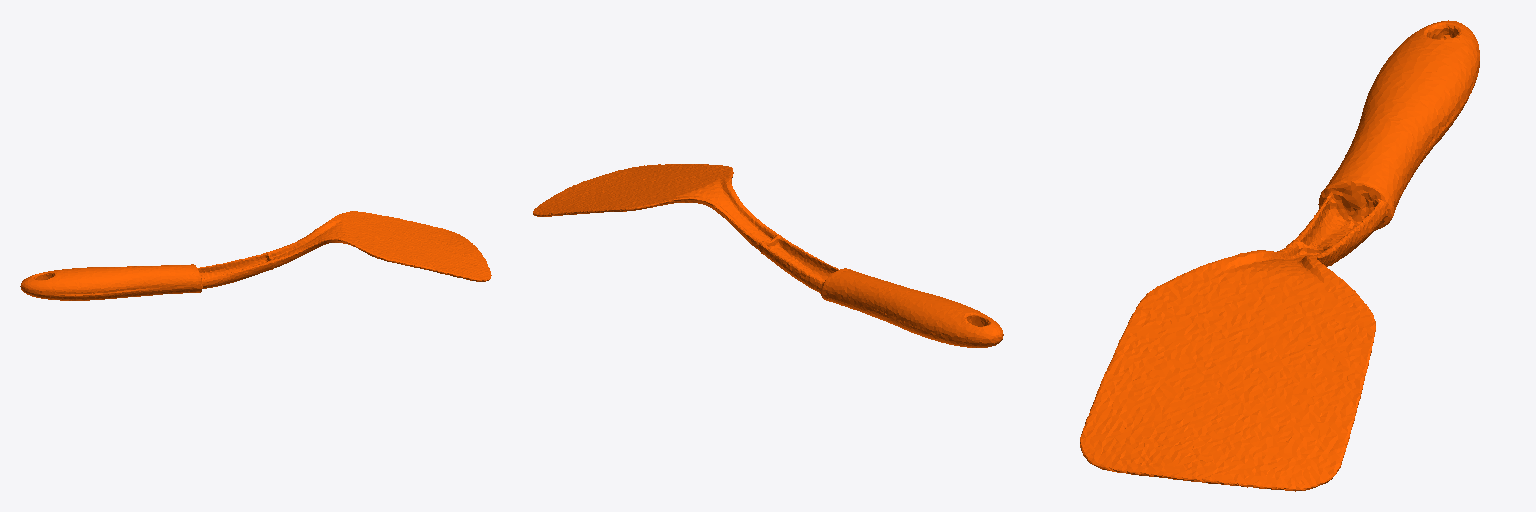
robot.urdf — 033_spatula:
<?xml version="1.0" ?>
<robot name="033_spatula">
   <material name="obj_color">
      <color rgba="1.0 0.423529411765 0.0392156862745 1.0"/>
   </material>
   <link name="top">
      <inertial>
         <origin rpy="2.947510938961554e-05 0.001252299729079396 0.001269981549790664" xyz="-0.04881688648234415 0.01293410916413939 -0.001170305584371498"/>
         <mass value="0.1315817925076289"/>
         <inertia ixx="0.0001134744378310445" ixy="0.0003092741246370287" ixz="-3.185908288878827e-06" iyy="0.001168309397530937" iyz="9.166399635441377e-07" izz="0.001269972552897694"/>
      </inertial>
      <visual>
         <origin rpy="0 0 0" xyz="0 0 0"/>
         <geometry>
            <mesh filename="top_watertight_tiny.stl" scale="1 1 1"/>
         </geometry>
         <material name="obj_color"/>
      </visual>
      <collision>
         <origin rpy="0 0 0" xyz="0 0 0"/>
         <geometry>
            <mesh filename="top_watertight_tiny.obj" scale="1 1 1"/>
         </geometry>
      </collision>
   </link>
   <link name="bottom">
      <inertial>
         <origin rpy="1.633333333199431e-08 1.633333333199431e-08 1.633333333362855e-08" xyz="0.3464080000000008 0.3464080000000008 0.3464080000000008"/>
         <mass value="0.0009800000000000017"/>
         <inertia ixx="1.633333333253906e-08" ixy="5.447480642029219e-19" ixz="5.447480642029219e-19" iyy="1.633333333253906e-08" iyz="5.447480642029219e-19" izz="1.633333333253906e-08"/>
      </inertial>
      <visual>
         <origin rpy="0 0 0" xyz="0 0 0"/>
         <geometry>
            <mesh filename="bottom_watertight_tiny.stl" scale="1 1 1"/>
         </geometry>
         <material name="obj_color"/>
      </visual>
   </link>
   <joint name="rotation" type="revolute">
      <origin xyz="0 0 0"/>
      <axis xyz="0 0 -1"/>
      <parent link="bottom"/>
      <child link="top"/>
      <dynamics damping="1.0" friction="1.0"/>
      <limit effort="0.1" velocity="0.1" lower="0" upper="0.001"/>
   </joint>
</robot>

--- Facts derived from the render (not from the file) ---
Views: 3 orthographic renders of the robot side by side, from view 1: azimuth 30°, elevation 25°; view 2: azimuth 150°, elevation 25°; view 3: azimuth 270°, elevation 25°.
Model 033_spatula with 2 links and 1 joints (1 revolute), rooted at bottom, posed every joint at zero.
Visible links, largest first — view 1: top; view 2: top; view 3: top.
Boxes of the visible links, left/top/right/bottom form: top: left=20, top=211, right=491, bottom=300; top: left=533, top=164, right=1003, bottom=347; top: left=1080, top=20, right=1479, bottom=491.
Size in the robot's own frame: 0.3055 by 0.1246 by 0.0329 metres.
1 mesh visuals loaded from 2 distinct referenced files (1 binary STL); not drawn: 1 (reference not matched to a file when rendering).
